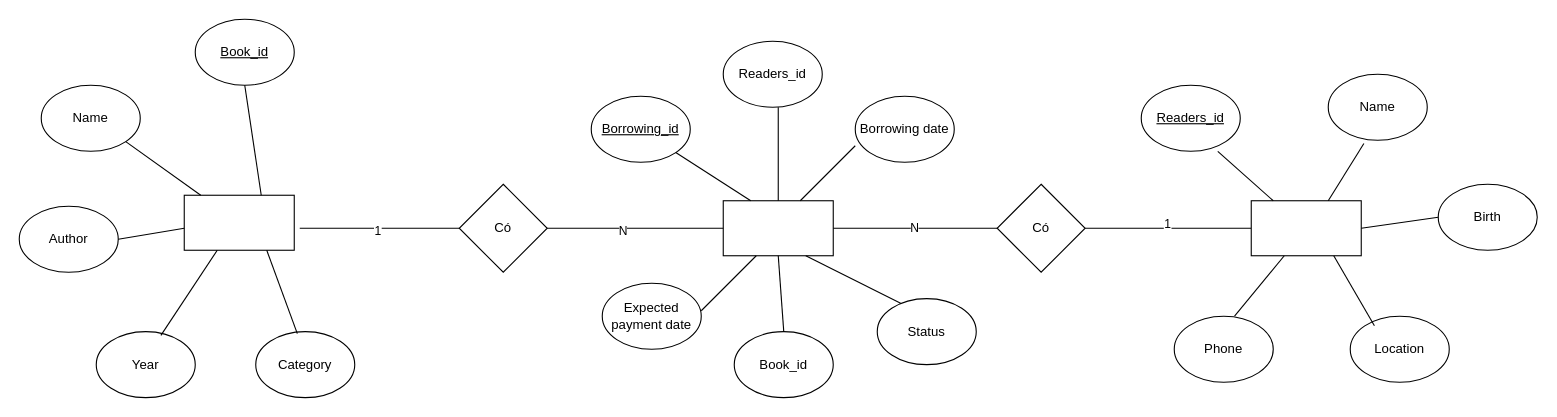
The diagram is 1557 pixels wide and 417 high, and some of its shapes have lost their labels. Here are the shapes that lost their labels. From the top down, the centre of each, then its label:
At point (238, 222): "BOOK".
At point (777, 228): "Borrowing".
At point (1305, 228): "Readers".
